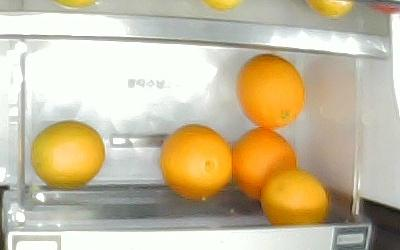orange: (160, 124, 233, 200), (30, 119, 105, 187), (238, 54, 304, 128), (232, 127, 297, 202), (260, 169, 328, 223)
